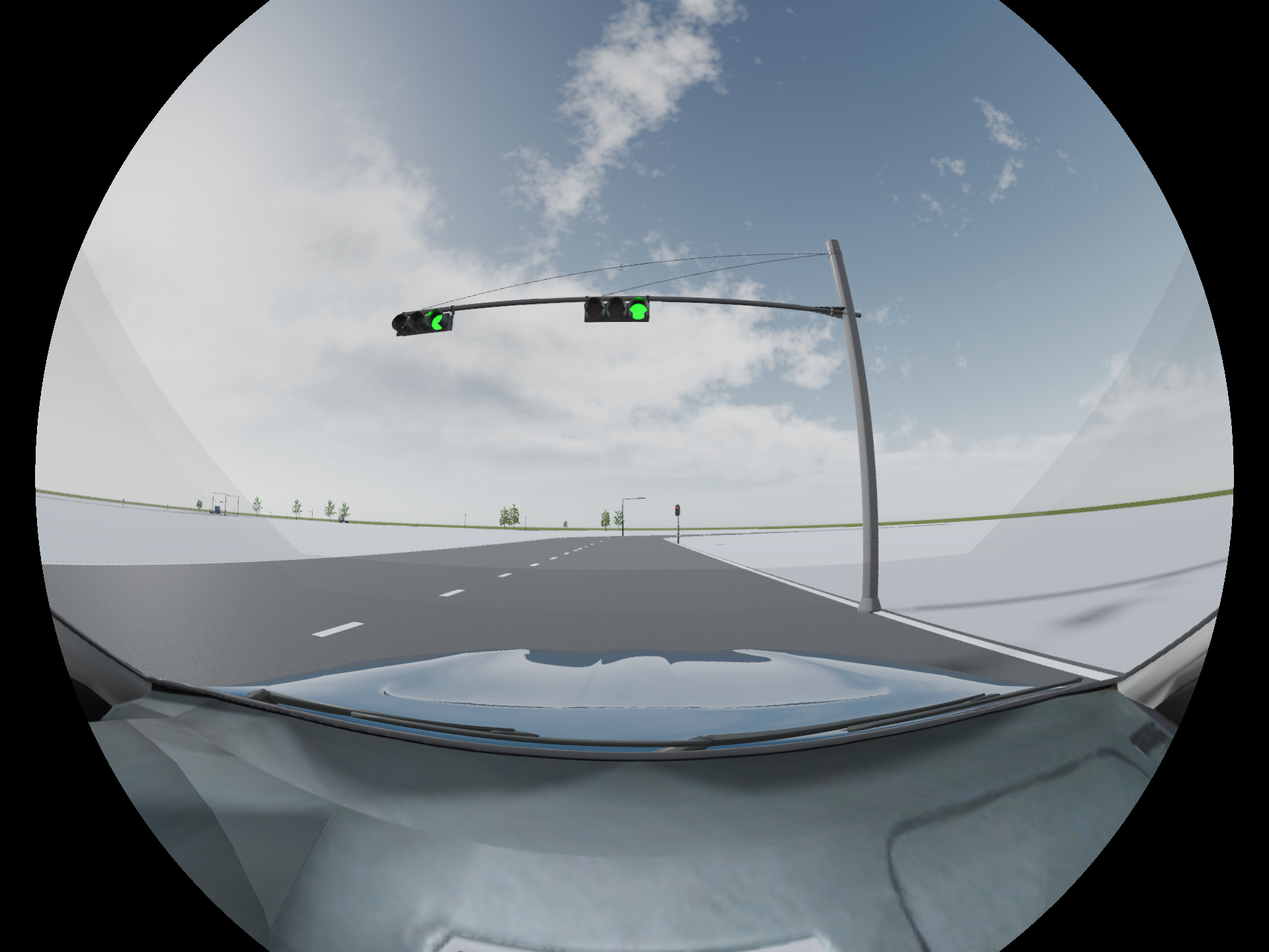Green Light: (579, 298, 650, 327), (393, 309, 460, 337)
